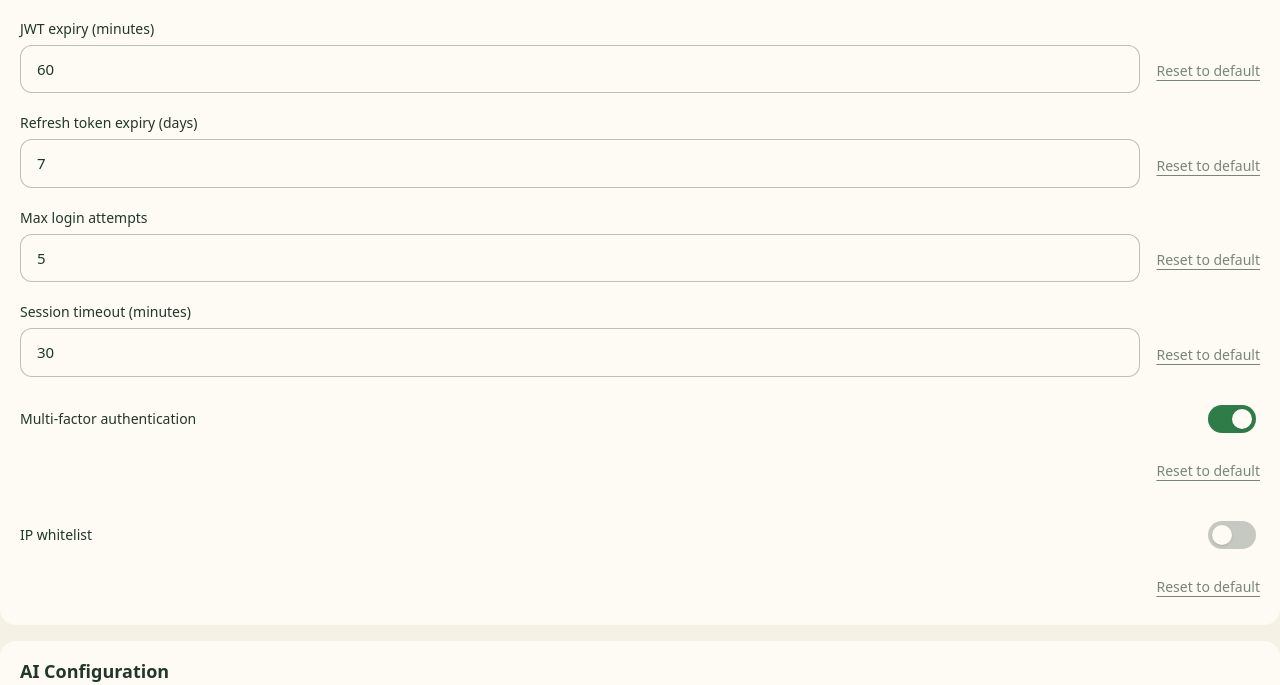
AdminSettingsPage › Numeric field validation › disables Save and shows an inline error when a numeric field is cleared, instead of silently writing 0
The image size is (1280, 685).
(page scrolled)
Clear the number field labelled "Session timeout (minutes)" at (580, 352), box [20,328,1140,376]
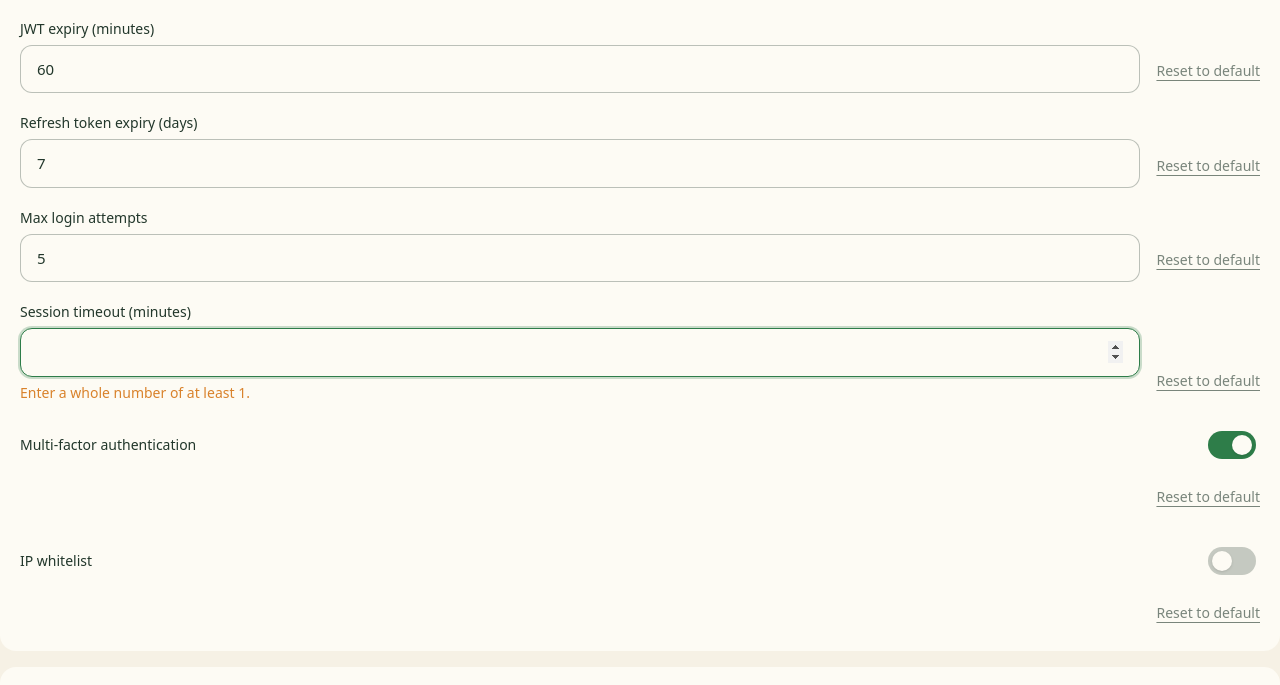
Result: the text "Enter a whole number of at least 1." is shown at [20,382,250,402]
